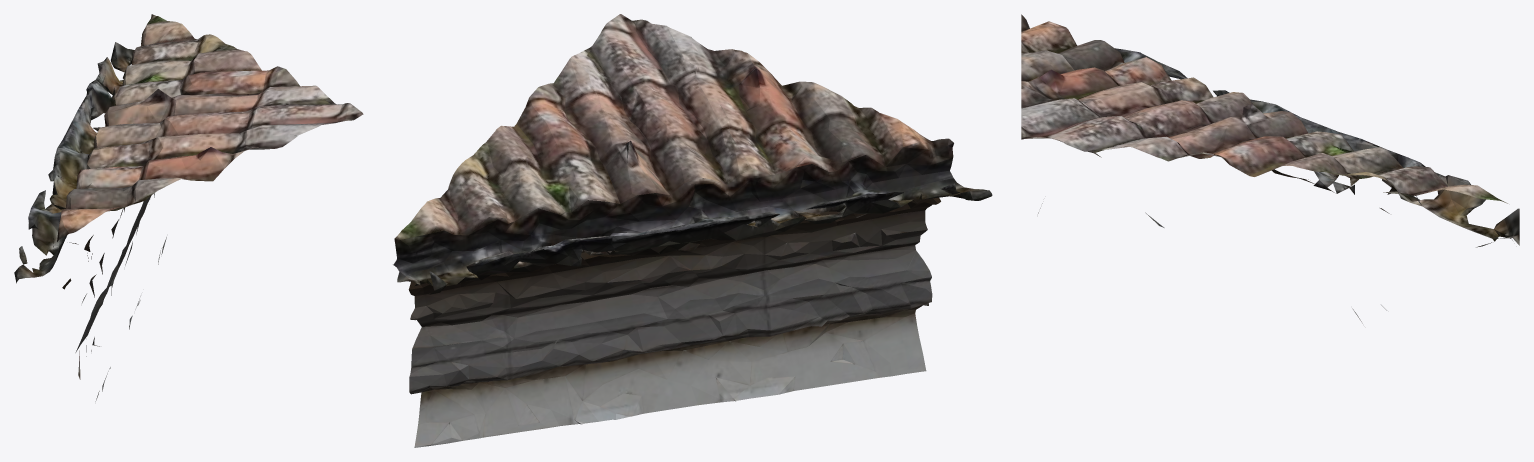
The picture shows the model from 3 angles, left to right: view 1: azimuth 30°, elevation 25°; view 2: azimuth 150°, elevation 25°; view 3: azimuth 270°, elevation 25°; orthographic projection. The views are drawn at different scales.
Bounding box in the file's own units: 1.57 × 1.15 × 1.67.
Materials: 4 (4 with a texture image).
